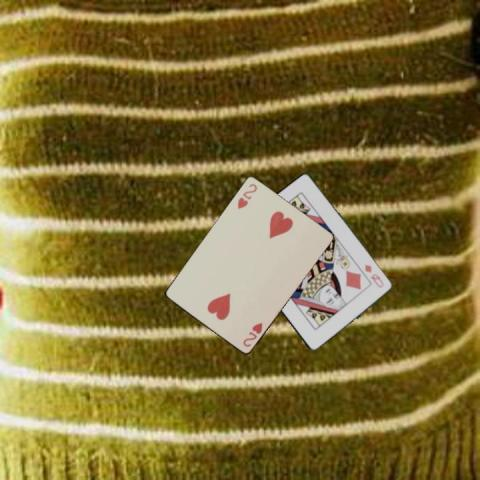2h: (240, 319, 264, 349), (234, 180, 258, 210)
Qd: (361, 262, 385, 290)
